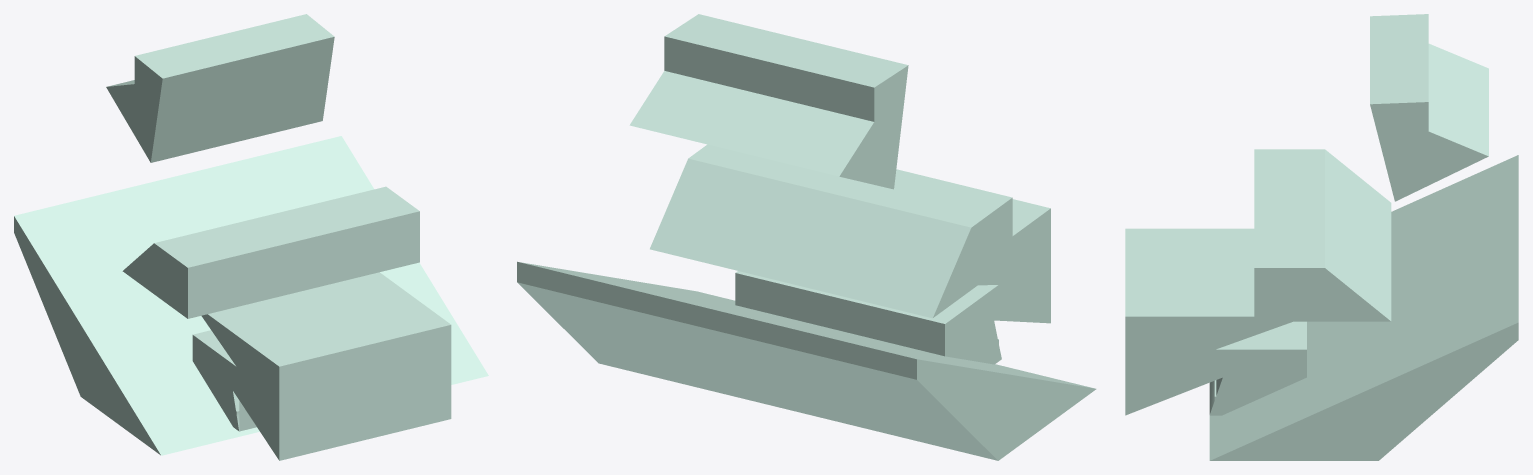
3 renders of one model, left to right at view 1: azimuth 30°, elevation 25°; view 2: azimuth 150°, elevation 25°; view 3: azimuth 270°, elevation 25°, orthographic. The views are drawn at different scales.
Parts seen in each view (by area): view 1: Renderer Node; view 2: Renderer Node; view 3: Renderer Node.
Part boxes in pixels (x1,y1,x2,y2): Renderer Node: (14,14,488,460); Renderer Node: (517,14,1096,460); Renderer Node: (1125,14,1518,460).
Bounding box in the file's own units: 1.88 × 1.66 × 1.86.
